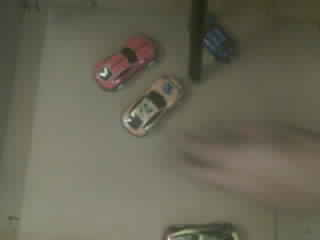Car: (121, 76, 184, 136), (95, 37, 154, 90), (203, 18, 235, 63), (166, 222, 238, 239)
